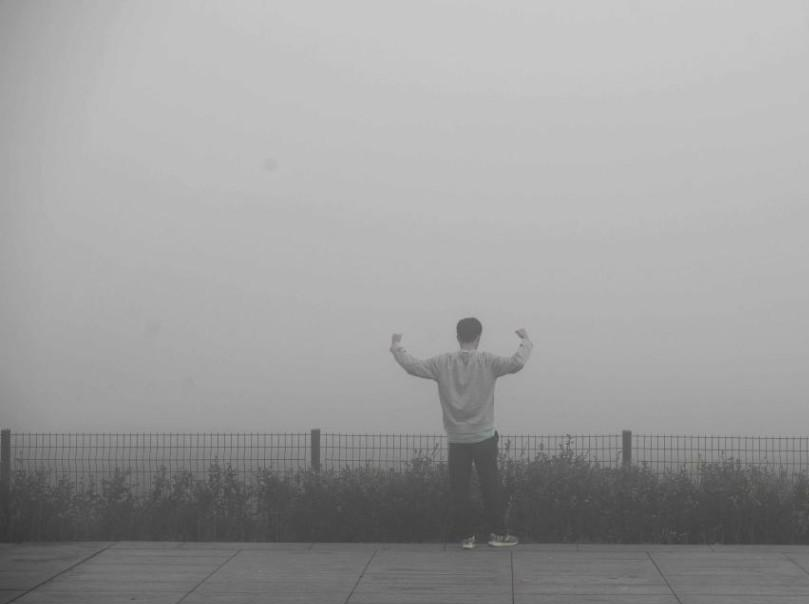person: (390, 316, 534, 548)
